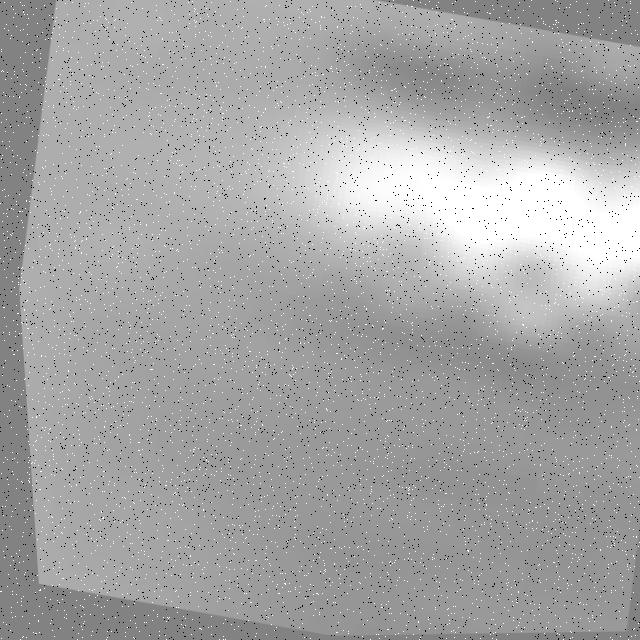person: (193, 38, 640, 359)
